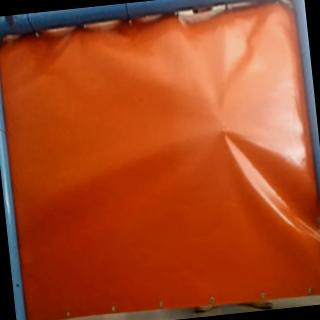Hit-hRxx: (214, 121, 232, 139)
